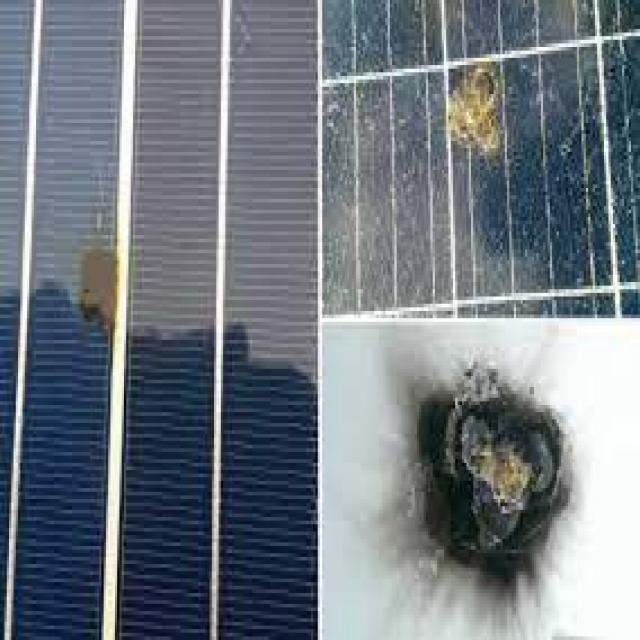faulty: (0, 0, 309, 640), (308, 0, 640, 308), (326, 317, 639, 640)
